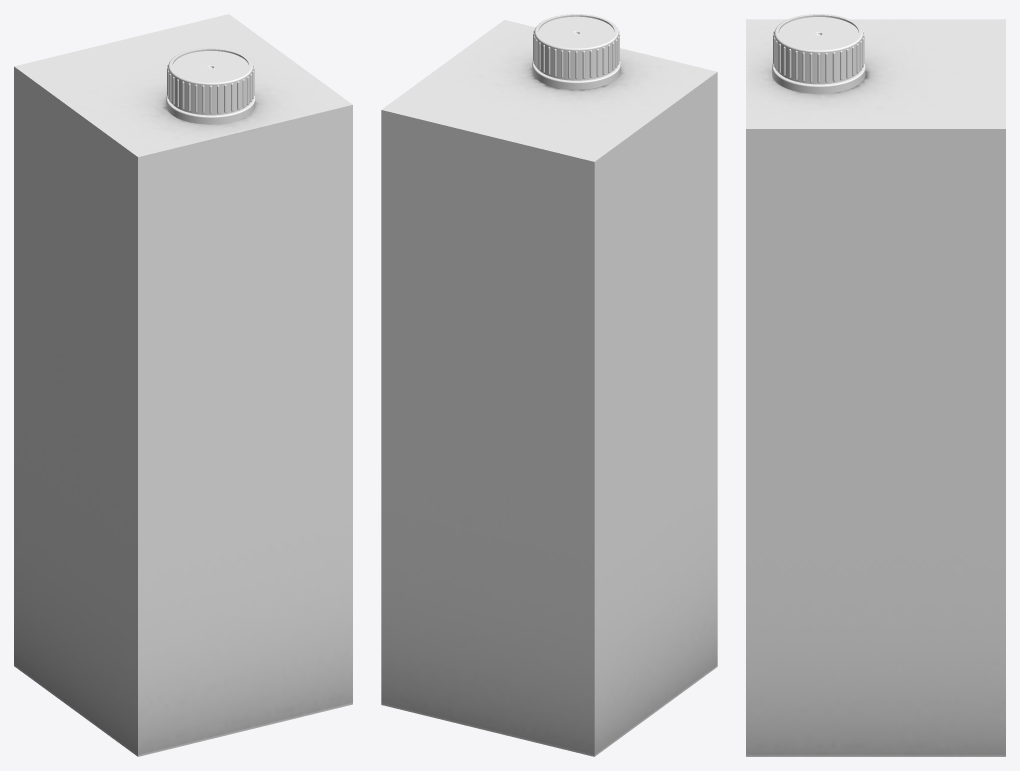
The model's file is 03-yogur.fbx.
3 views of the same model, side by side, from view 1: azimuth 30°, elevation 25°; view 2: azimuth 150°, elevation 25°; view 3: azimuth 270°, elevation 25° (orthographic). The views are drawn at different scales.
Visible parts, largest first — view 1: 03_obj_yougur, 03_obj_tapa; view 2: 03_obj_yougur, 03_obj_tapa; view 3: 03_obj_yougur, 03_obj_tapa.
Boxes of the visible parts, x1=… form: 03_obj_yougur: x1=14, y1=14, x2=352, y2=756; 03_obj_tapa: x1=166, y1=48, x2=255, y2=124; 03_obj_yougur: x1=381, y1=20, x2=717, y2=756; 03_obj_tapa: x1=532, y1=14, x2=620, y2=89; 03_obj_yougur: x1=746, y1=19, x2=1005, y2=756; 03_obj_tapa: x1=772, y1=14, x2=865, y2=93.
Size of what is drawn, in the model's own units: 7.5 by 21.34 by 7.5.
2 materials, 1 textured.
